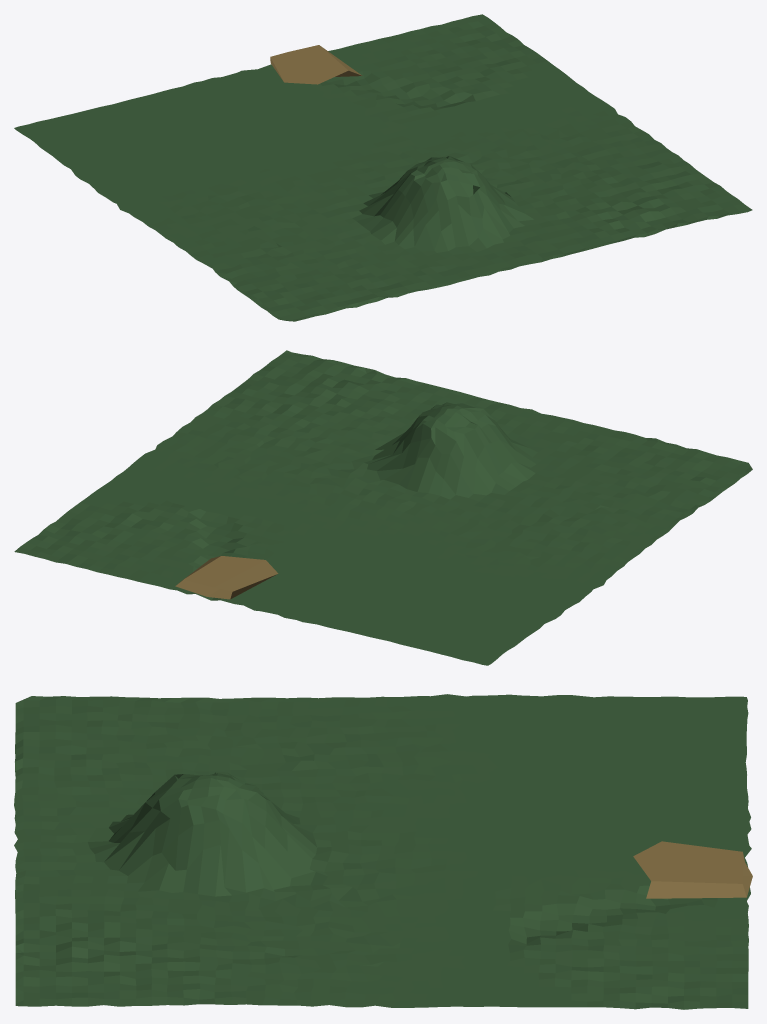
Rendered from athili_copse_section23.glb.
3 renders of one model, top to bottom at view 1: azimuth 30°, elevation 25°; view 2: azimuth 150°, elevation 25°; view 3: azimuth 270°, elevation 25°, orthographic. The views are drawn at different scales.
Parts seen in each view (by area): view 1: Grass, Road; view 2: Grass, Road; view 3: Grass, Road.
Part boxes in pixels (x1,y1,x2,y2): Grass: (14, 14, 752, 321); Road: (270, 45, 362, 84); Grass: (14, 350, 752, 665); Road: (175, 556, 278, 599); Grass: (14, 694, 751, 1009); Road: (633, 841, 752, 898).
Size of the model in its own units: 109 by 12.95 by 108.
